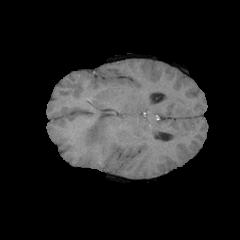glioma: (74, 105, 113, 151)
